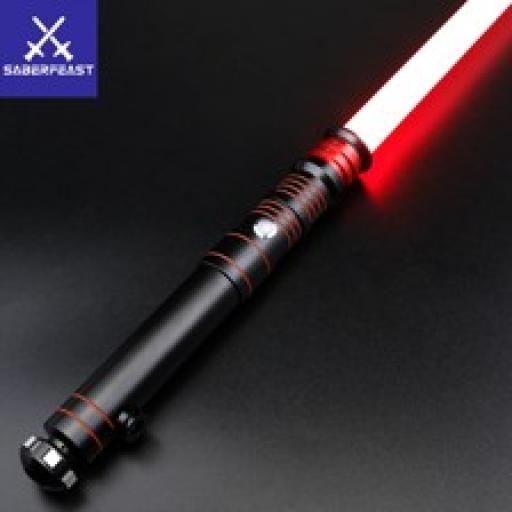lightsaber: (18, 1, 510, 499)
